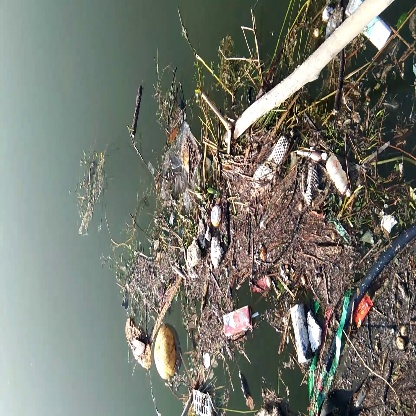milk-box: (219, 305, 256, 341)
